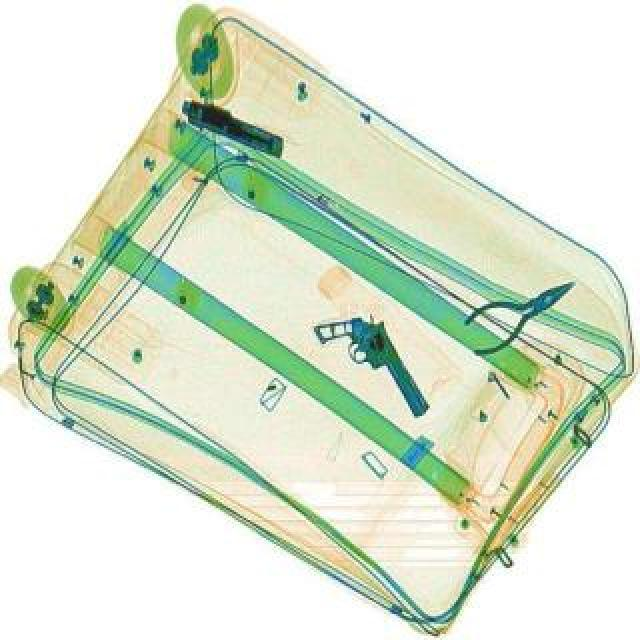gun: (312, 298, 434, 438), (176, 92, 290, 158)
wrench: (452, 262, 592, 360)
